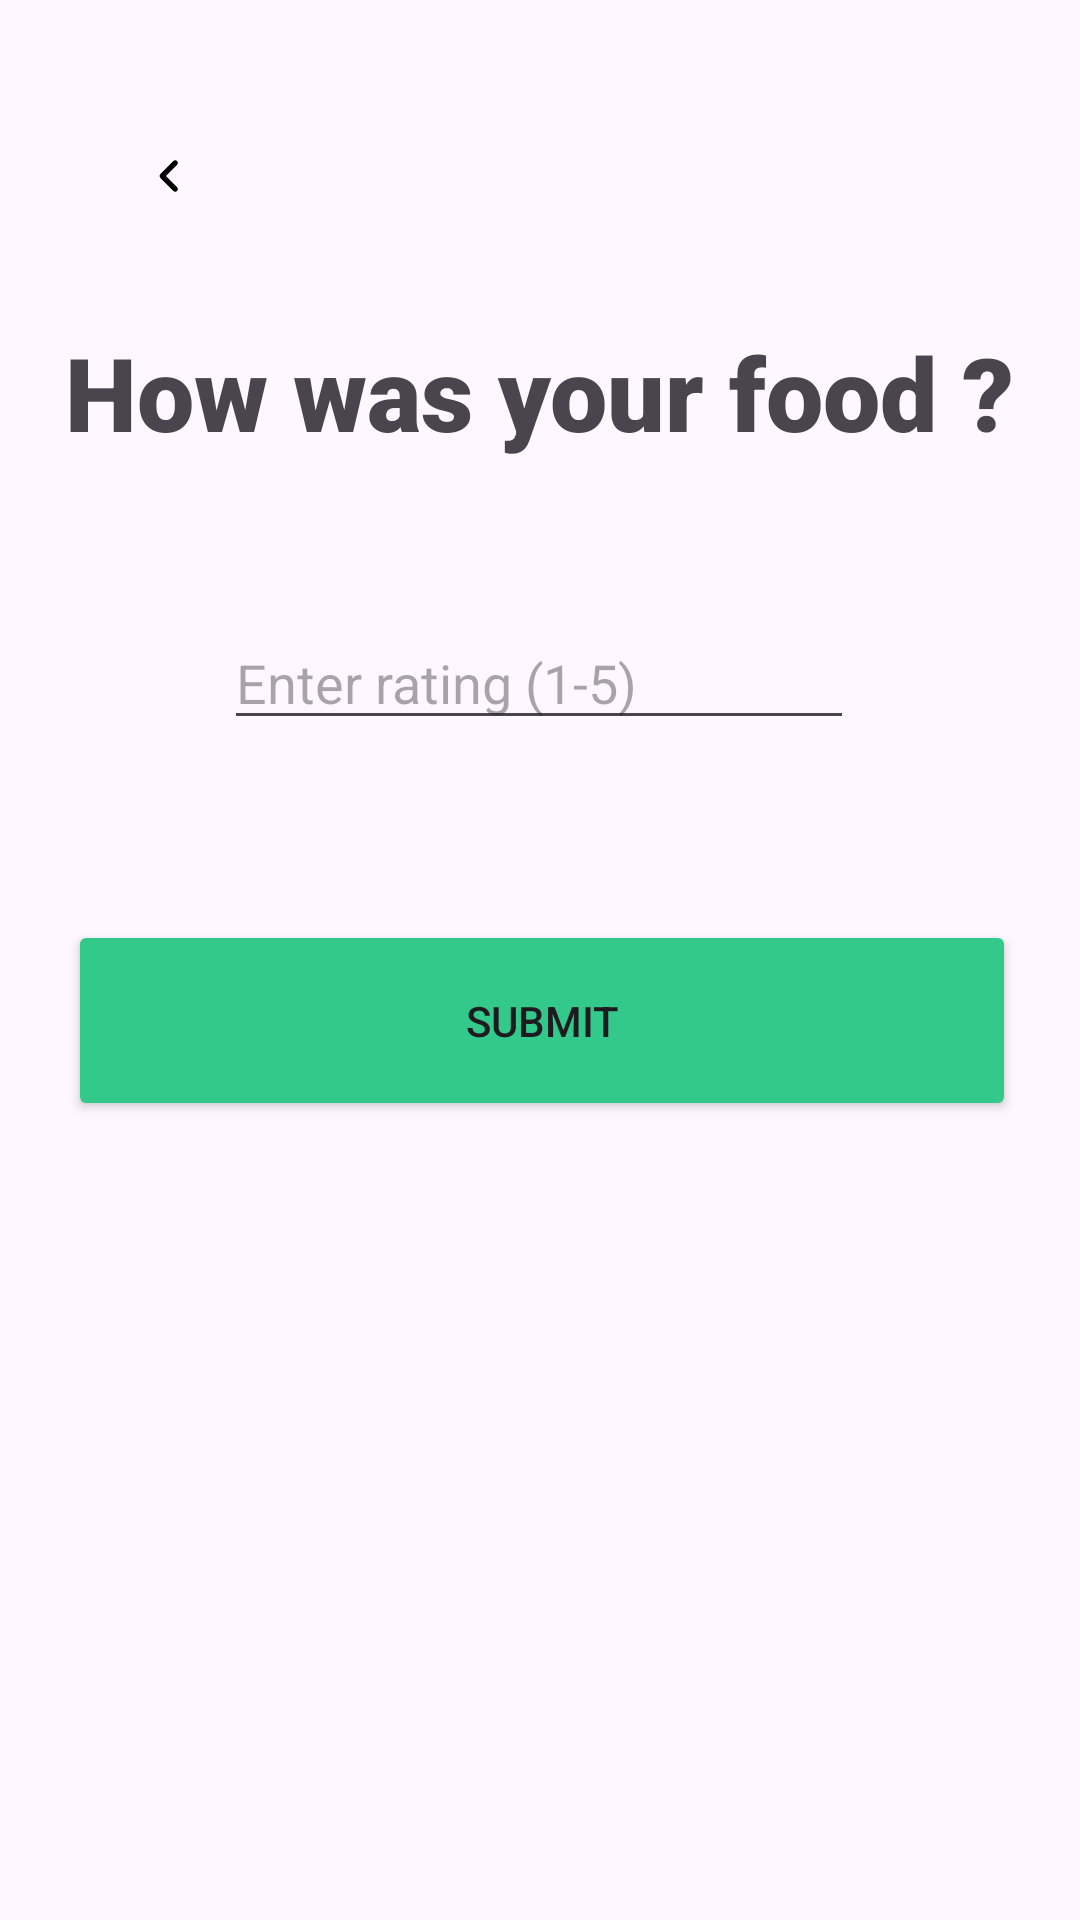

Icons on this 1080px×1920px Android screen, each with its box as (x1, y1, x2, y2):
angle left: (159, 160, 178, 192)
